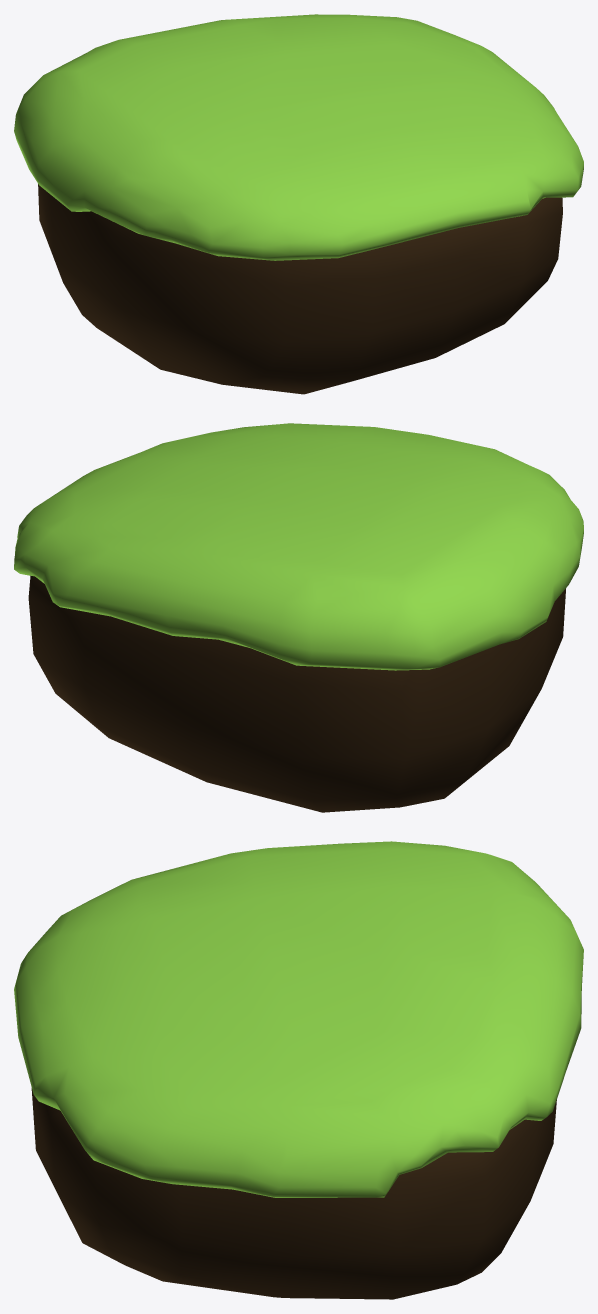
File: groundBit2.fbx
3 views of the same model, one above another, from view 1: azimuth 30°, elevation 25°; view 2: azimuth 150°, elevation 25°; view 3: azimuth 270°, elevation 25° (orthographic). The views are drawn at different scales.
Visible parts, largest first — view 1: Cube.001; view 2: Cube.001; view 3: Cube.001.
Boxes of the visible parts, <box> form: Cube.001: <box>14,14,583,394</box>; Cube.001: <box>14,423,583,812</box>; Cube.001: <box>14,841,583,1299</box>.
Bounding box in the file's own units: 474 × 251 × 412.
